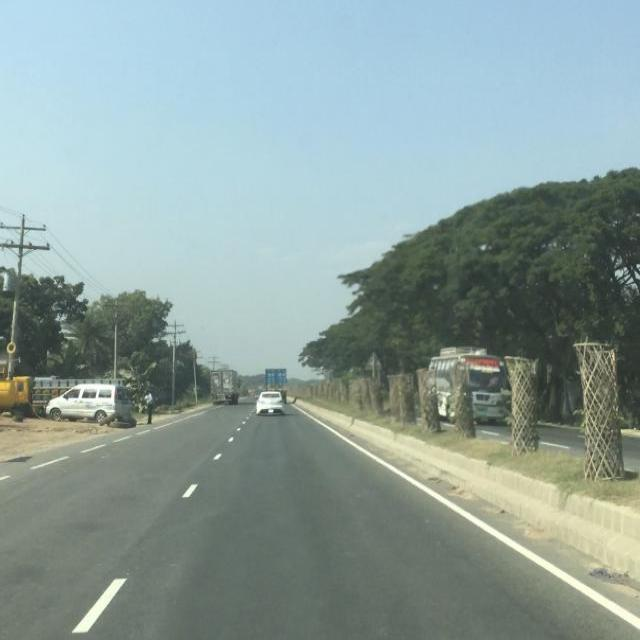bus: (424, 344, 508, 427)
car: (254, 389, 286, 415)
minivan: (42, 379, 132, 420)
truck: (206, 368, 240, 407), (262, 366, 286, 386)
